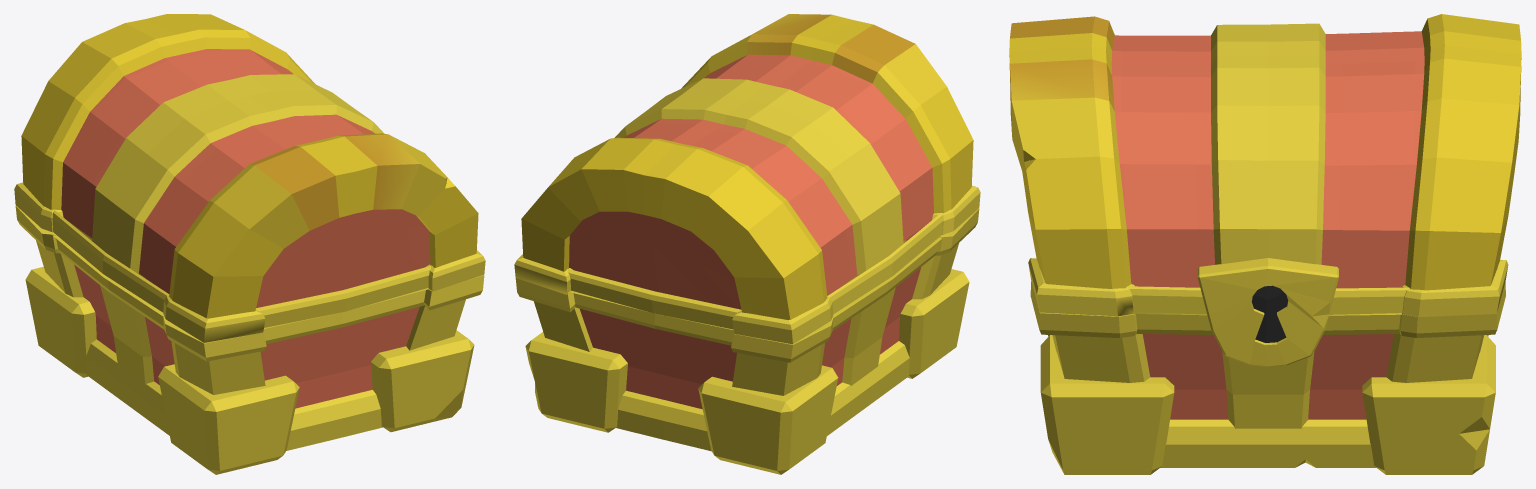
Rendered from coffre.glb.
The picture shows the model from 3 angles, left to right: view 1: azimuth 30°, elevation 25°; view 2: azimuth 150°, elevation 25°; view 3: azimuth 270°, elevation 25°; orthographic projection. The views are drawn at different scales.
Visible parts, largest first — view 1: chest_metall_0, chest_wood_0; view 2: chest_metall_0, chest_wood_0; view 3: chest_metall_0, chest_wood_0, chest_Material.001_0.
Boxes of the visible parts, bbox=[...] form: chest_metall_0: bbox=[14, 14, 485, 474]; chest_wood_0: bbox=[61, 49, 430, 408]; chest_metall_0: bbox=[514, 14, 980, 474]; chest_wood_0: bbox=[569, 54, 933, 409]; chest_metall_0: bbox=[1009, 14, 1521, 474]; chest_wood_0: bbox=[1029, 31, 1424, 419]; chest_Material.001_0: bbox=[1252, 285, 1287, 342].
Bounding box in the file's own units: 1.96 × 1.86 × 2.39.
